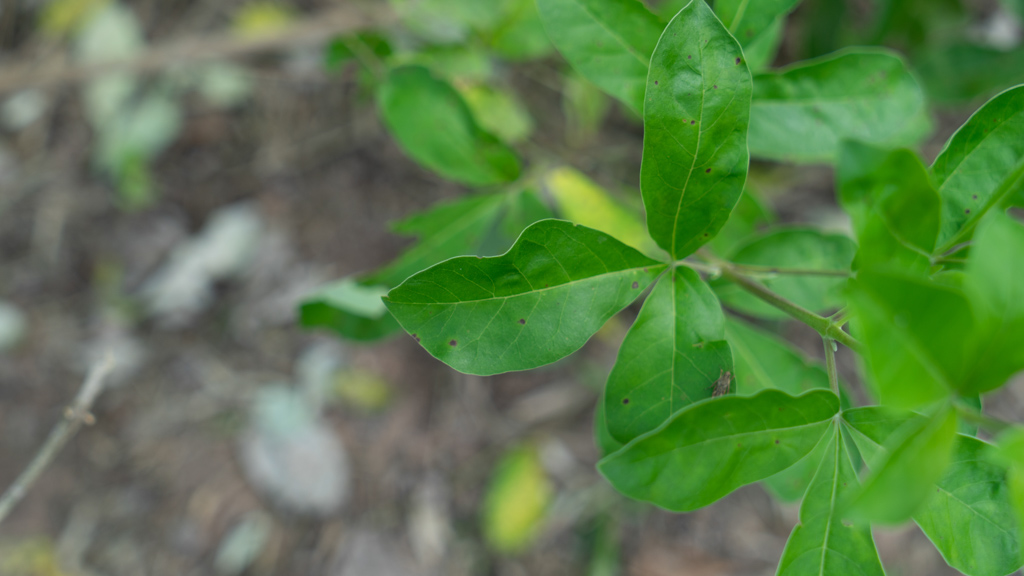Alternaria brassicicola: (419, 273, 646, 355), (655, 46, 722, 195)
